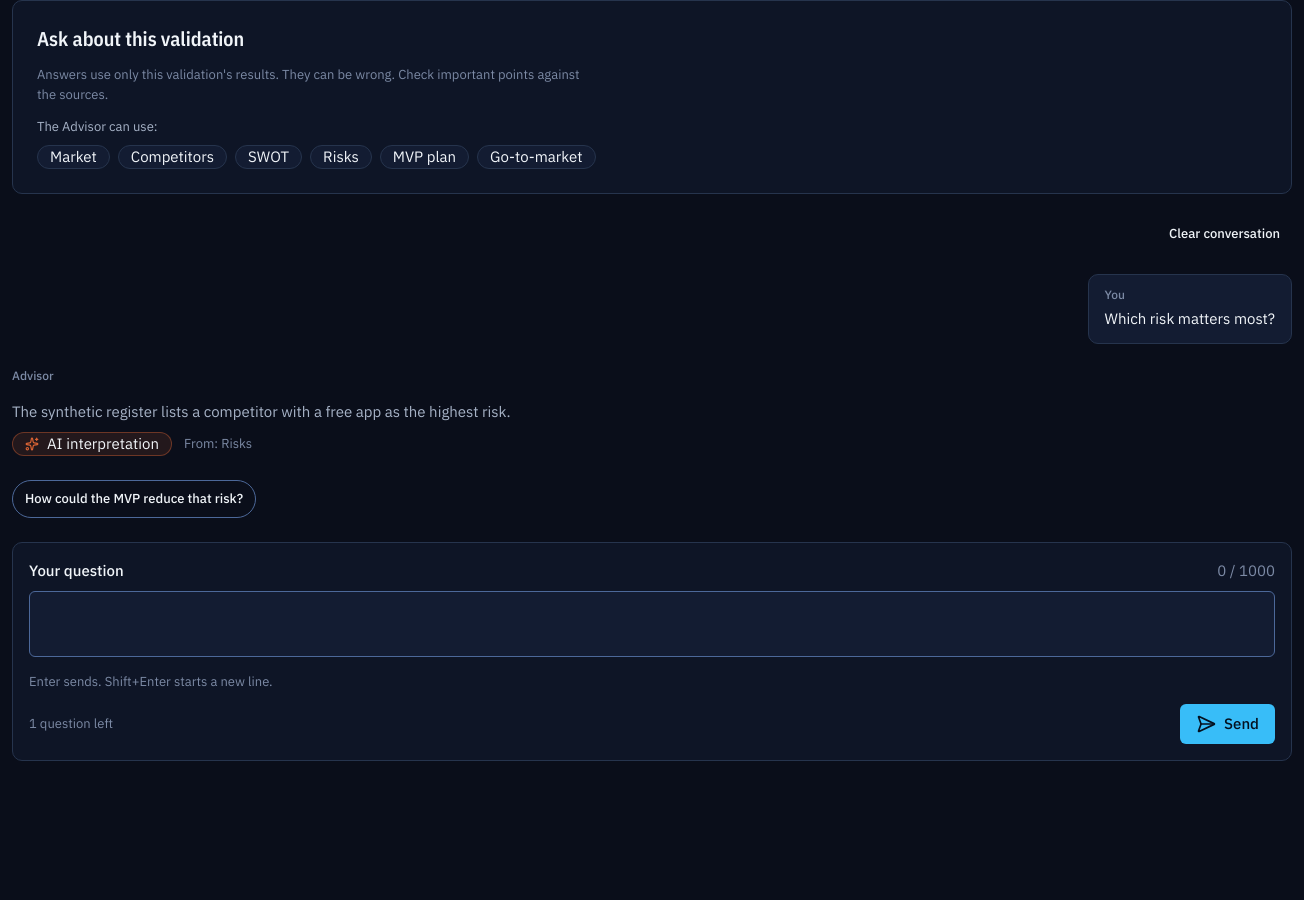
Test: Advisor: limits and clearing › reads the thread again when the backend says the conversation is full
In the text box labelled "Your question": [652, 624] box [29, 591, 1275, 657], type "Which risk matters most?"
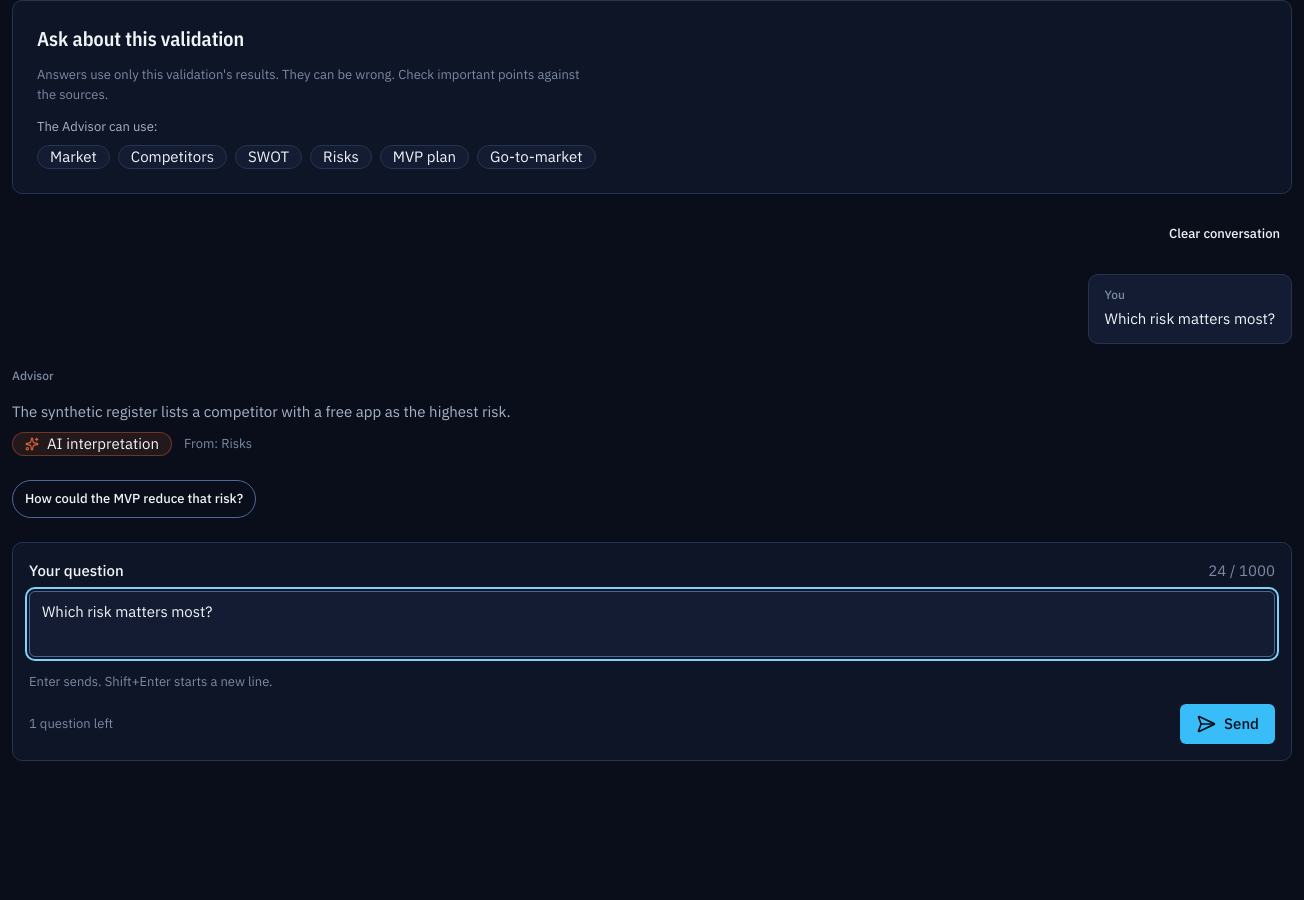
Click the button "Send": [1228, 724] box [1180, 704, 1275, 744]
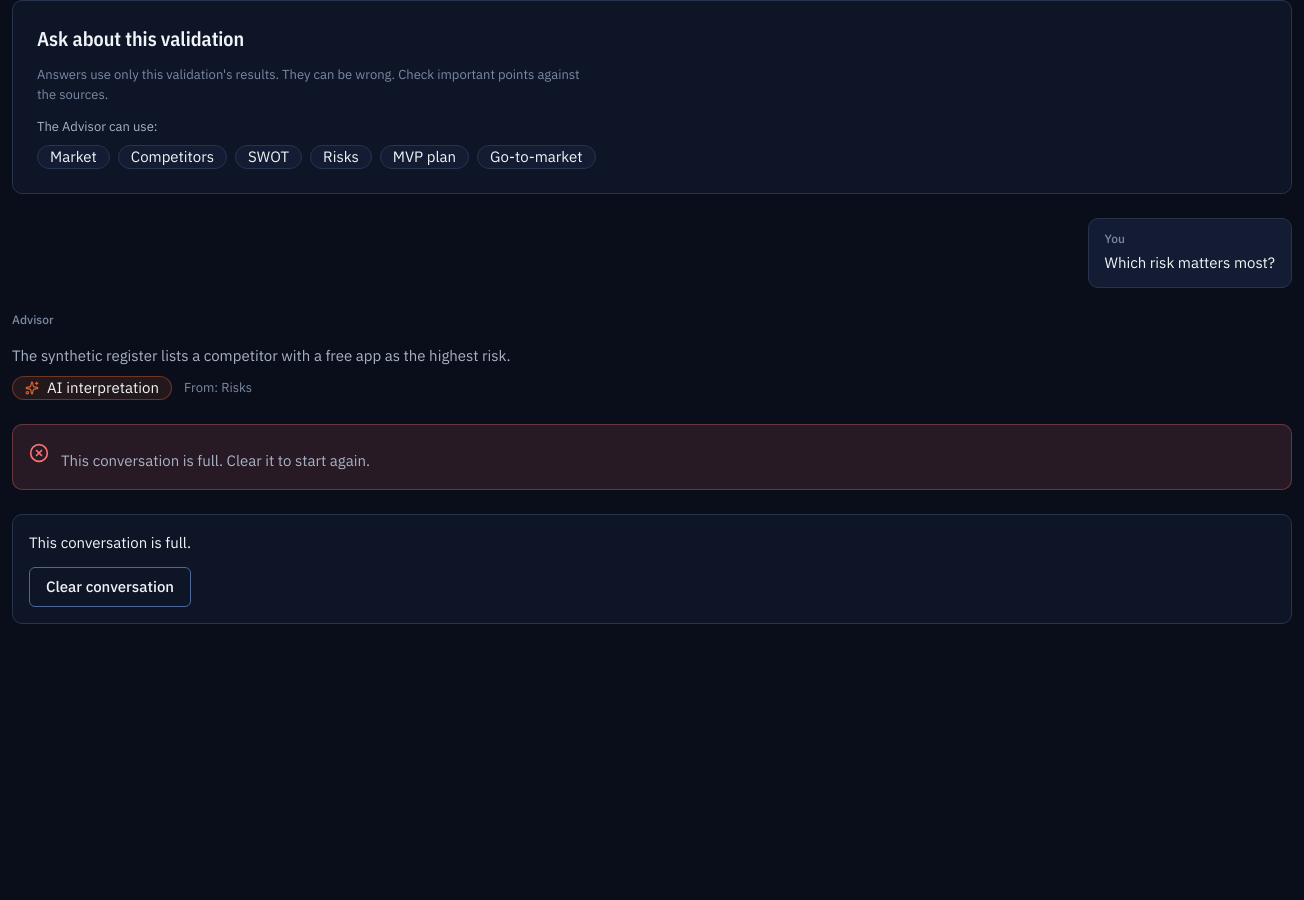
Expected: the text "This conversation is full. Clear it to start again." is shown, [61, 451, 370, 470]
Expected: the text "This conversation is full." is shown, [29, 533, 191, 552]
Expected: the label "Your question" is gone
